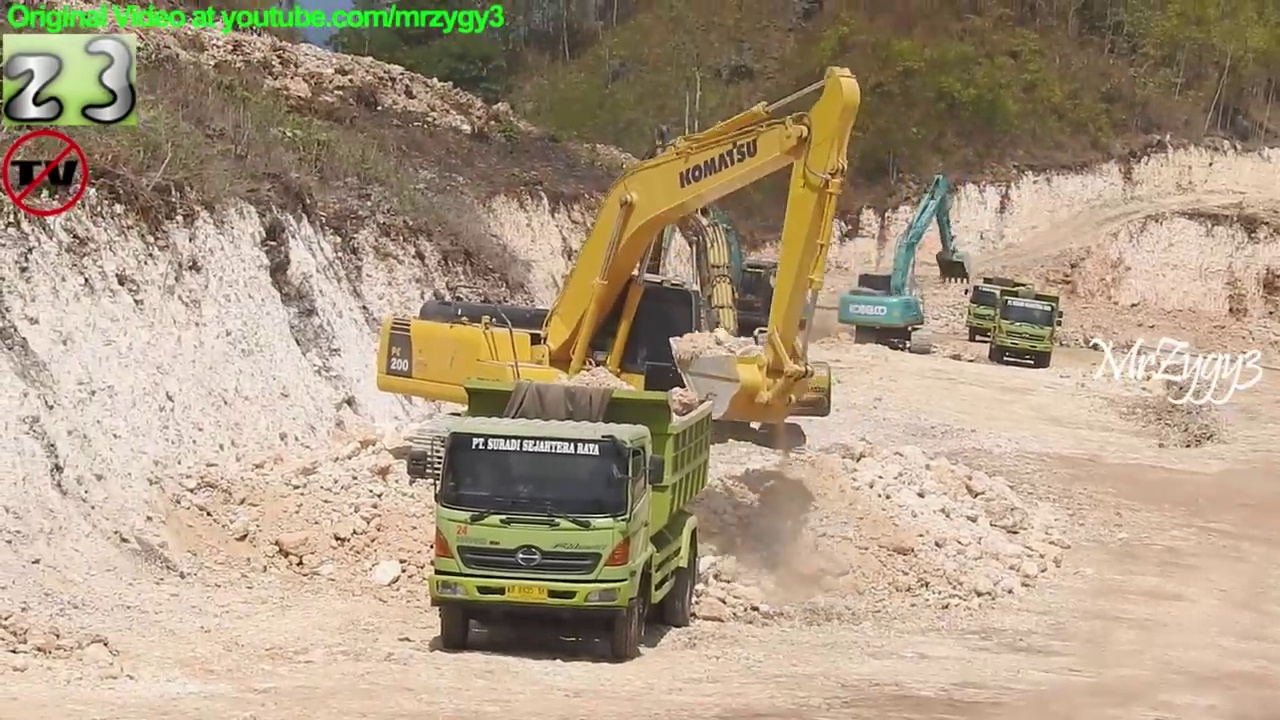excavator: (374, 62, 867, 489), (578, 152, 840, 448), (624, 126, 815, 388), (833, 169, 971, 361)
truck: (407, 375, 719, 665), (986, 288, 1068, 372), (962, 272, 1037, 350)
